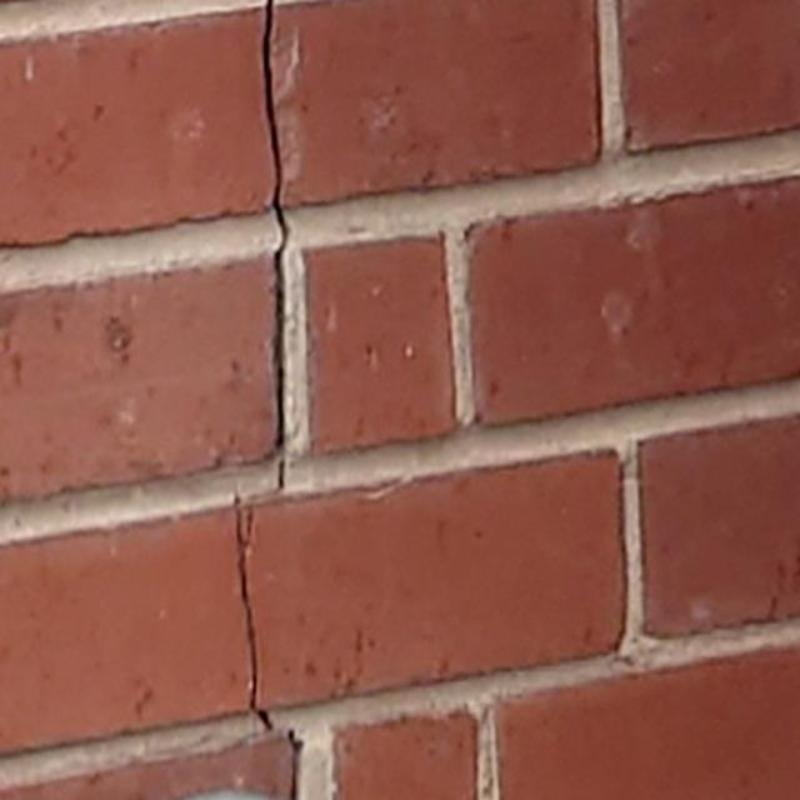crack: (262, 0, 288, 448), (235, 506, 273, 731), (288, 731, 303, 799), (278, 458, 284, 489)
